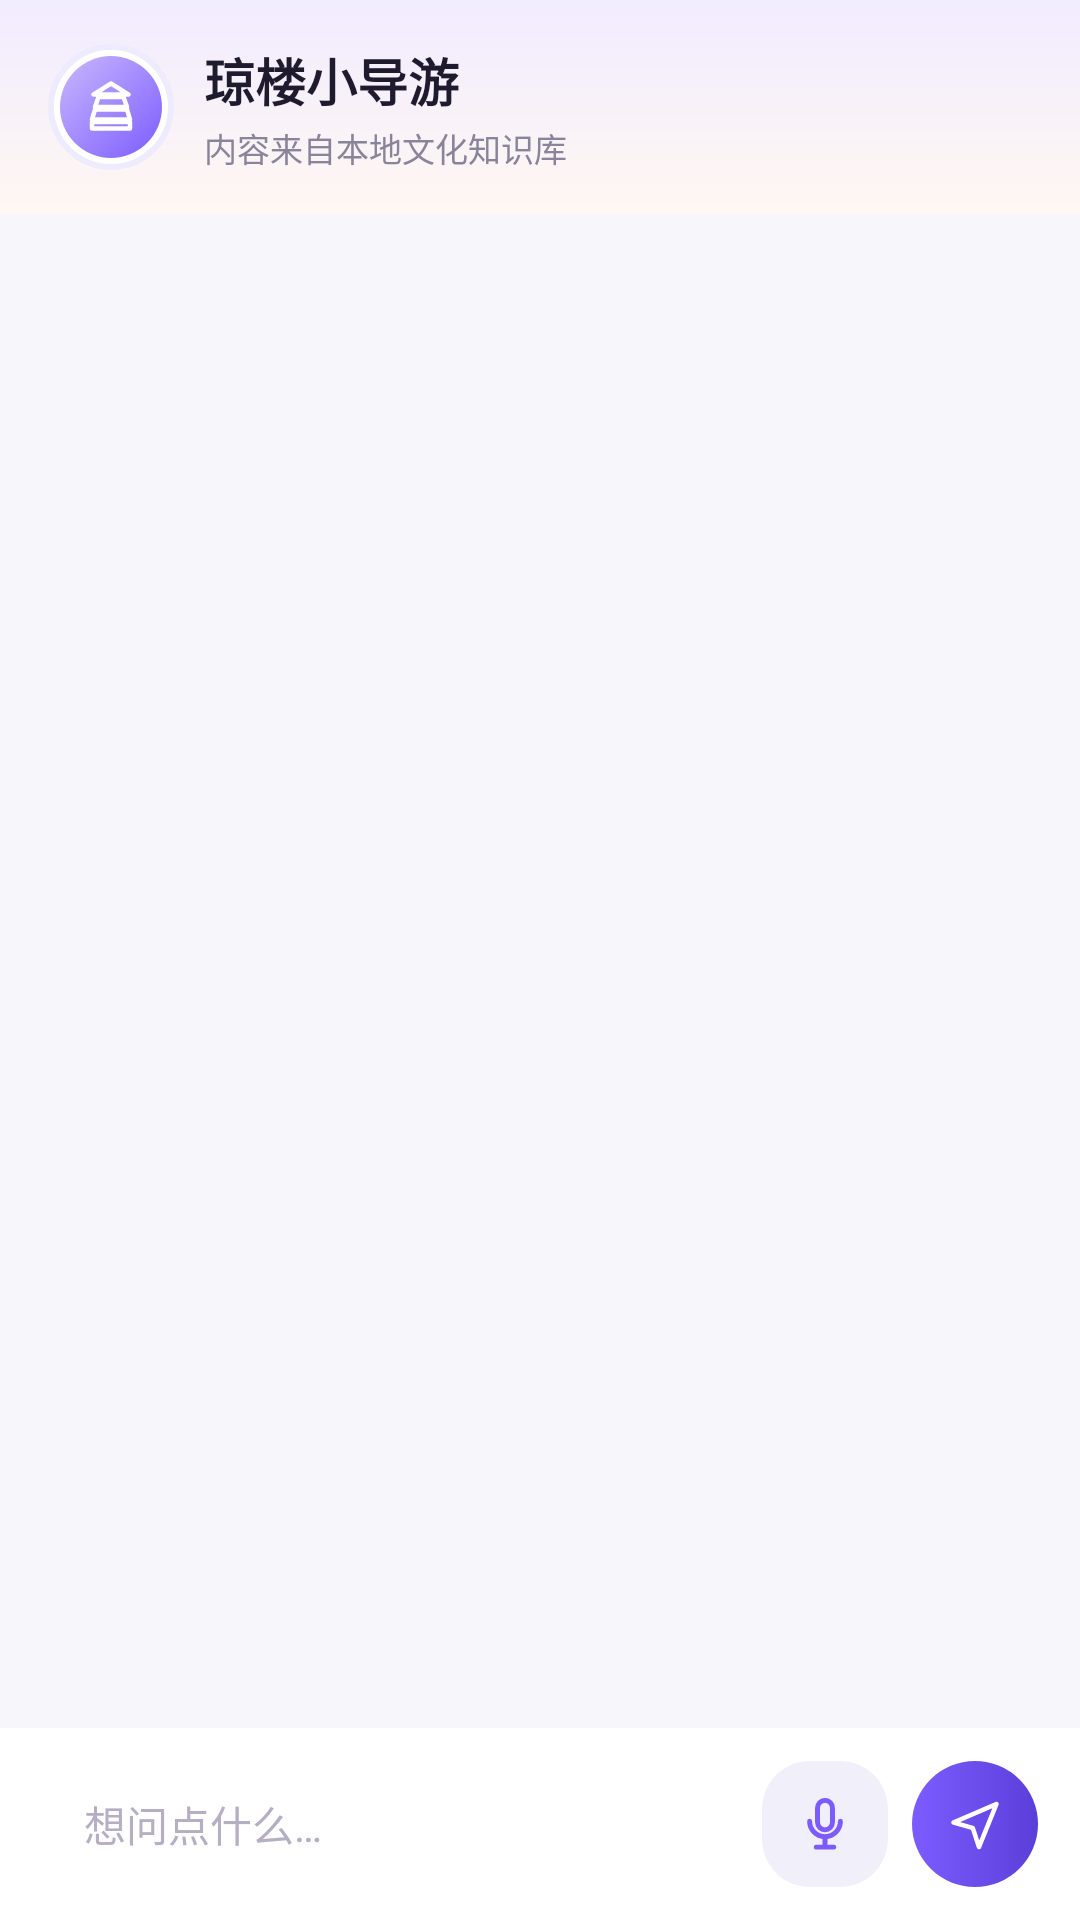

Named icons in this screenshot (1080×1920) and their bounding boxes, (x1, y1, x2, y2):
发送: (912, 1761, 1038, 1887)
语音提问将在 V0.2 开放: (762, 1761, 888, 1887)
